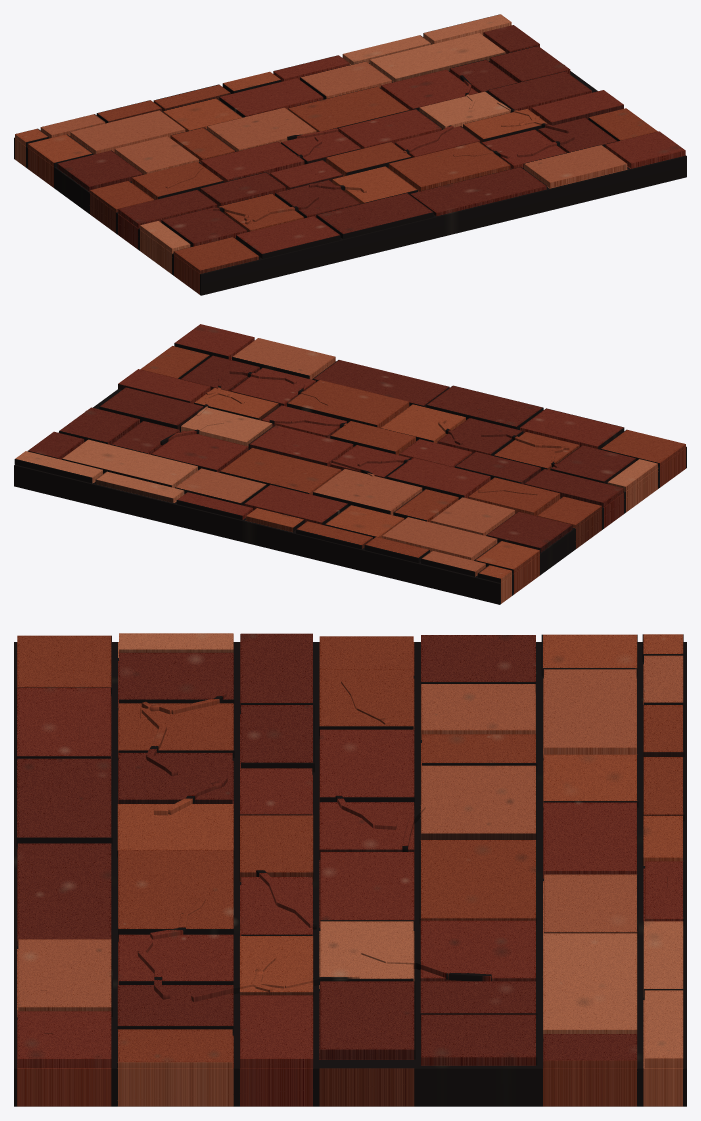
File: 1960s_NY_Alley_Red_Brick_Sidewalk_Tile.fbx
3 views of the same model, one above another, from view 1: azimuth 30°, elevation 25°; view 2: azimuth 150°, elevation 25°; view 3: azimuth 270°, elevation 25° (orthographic). The views are drawn at different scales.
Parts seen in each view (by area): view 1: PRINT_SINGLE_MESH_alley_sidewalk_floor_tile; view 2: PRINT_SINGLE_MESH_alley_sidewalk_floor_tile; view 3: PRINT_SINGLE_MESH_alley_sidewalk_floor_tile.
Boxes of the visible parts, box(x1,y1,x2,y2) form: PRINT_SINGLE_MESH_alley_sidewalk_floor_tile: box(14, 14, 686, 295); PRINT_SINGLE_MESH_alley_sidewalk_floor_tile: box(14, 324, 686, 604); PRINT_SINGLE_MESH_alley_sidewalk_floor_tile: box(14, 633, 686, 1106).
Bounding box in the file's own units: 12 × 0.652 × 8.
1 material, 1 textured.
